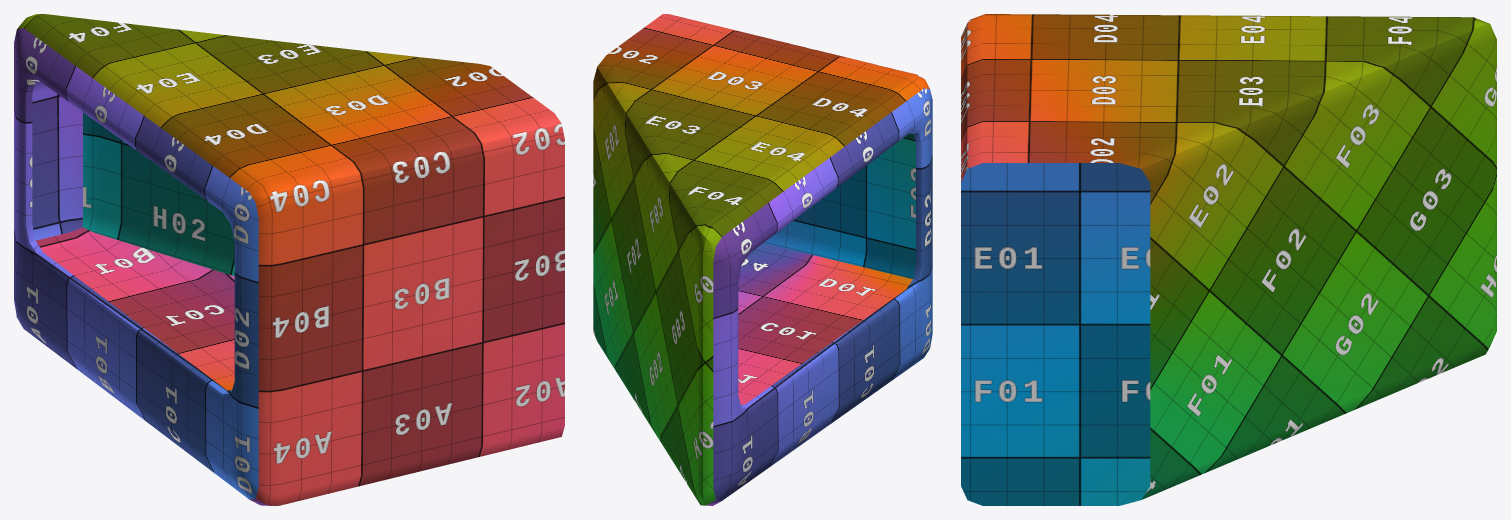
The model's file is BedTable_low.fbx.
3 renders of one model, left to right at view 1: azimuth 30°, elevation 25°; view 2: azimuth 150°, elevation 25°; view 3: azimuth 270°, elevation 25°, orthographic. The views are drawn at different scales.
Parts seen in each view (by area): view 1: BedTable_low; view 2: BedTable_low; view 3: BedTable_low.
Part boxes in pixels (x1=…): BedTable_low: x1=14, y1=14, x2=564, y2=505; BedTable_low: x1=593, y1=14, x2=932, y2=505; BedTable_low: x1=961, y1=14, x2=1496, y2=505.
Size of the model in its own units: 100 by 100 by 142.
